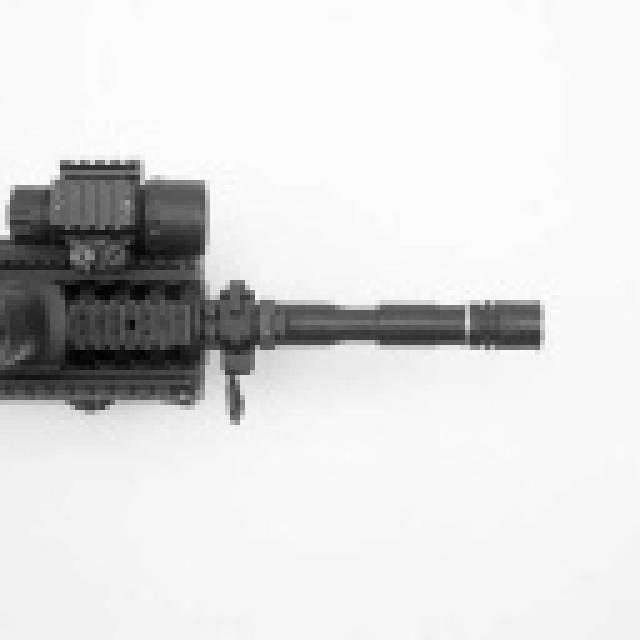Rifle: (0, 114, 557, 462)
